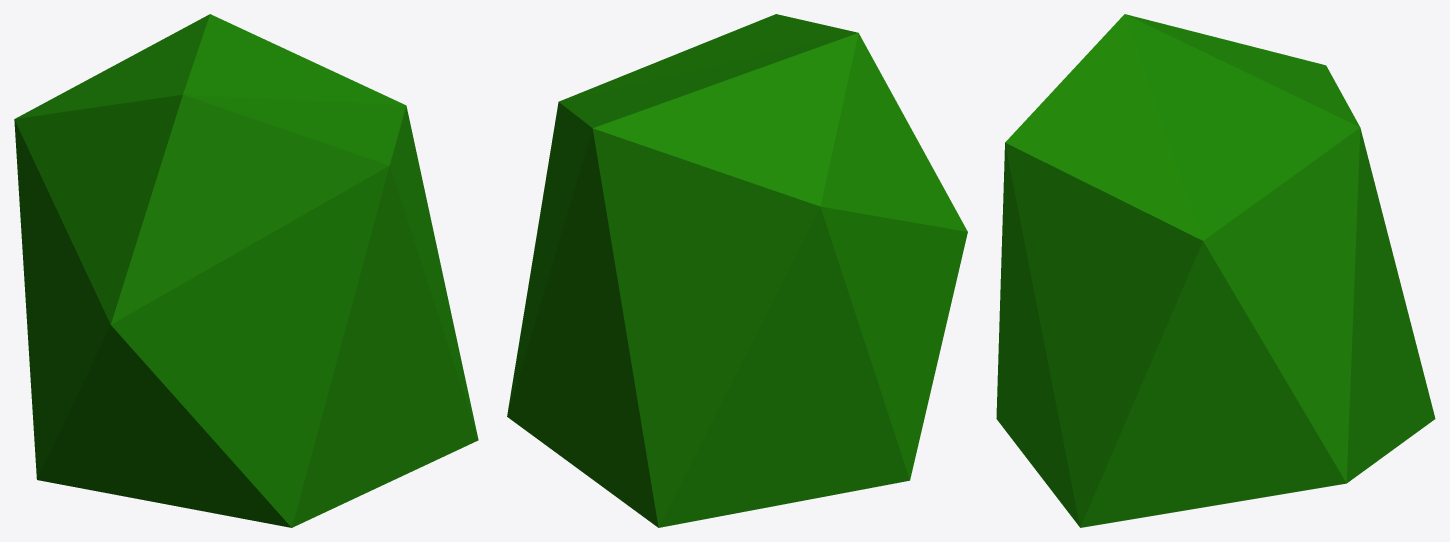
File: BushUV.fbx
3 views of the same model, side by side, from view 1: azimuth 30°, elevation 25°; view 2: azimuth 150°, elevation 25°; view 3: azimuth 270°, elevation 25° (orthographic). The views are drawn at different scales.
Visible parts, largest first — view 1: Icosphere; view 2: Icosphere; view 3: Icosphere.
Boxes of the visible parts, box(x1,y1,x2,y2) form: Icosphere: box(14, 14, 478, 527); Icosphere: box(507, 14, 967, 527); Icosphere: box(996, 14, 1435, 527).
Size of the model in its own units: 93.57 by 102 by 98.39.
